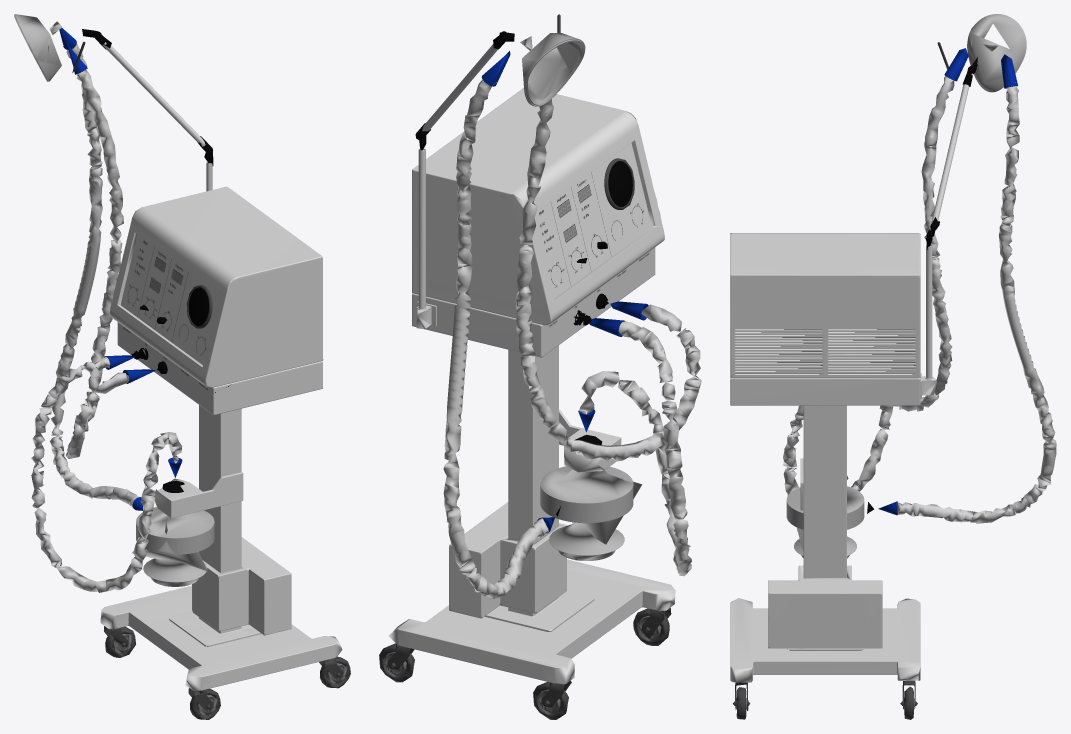
File: monitor.glb
The picture shows the model from 3 angles, left to right: view 1: azimuth 30°, elevation 25°; view 2: azimuth 150°, elevation 25°; view 3: azimuth 270°, elevation 25°; orthographic projection. The views are drawn at different scales.
Parts seen in each view (by area): view 1: cgaxis_models_55_07_02, cgaxis_models_55_07_04, cgaxis_models_55_07_05, cgaxis_models_55_07_01, cgaxis_models_55_03_07, floor_bottom, cgaxis_models_55_07_10, cgaxis_models_55_07_08; view 2: cgaxis_models_55_07_02, cgaxis_models_55_07_04, cgaxis_models_55_07_05, cgaxis_models_55_07_01, cgaxis_models_55_03_07, floor_bottom, cgaxis_models_55_07_10, cgaxis_models_55_07_08; view 3: cgaxis_models_55_07_02, cgaxis_models_55_07_04, cgaxis_models_55_07_05, floor_bottom, cgaxis_models_55_03_07, cgaxis_models_55_07_10.
Part boxes in pixels (x1,y1,x2,y2): cgaxis_models_55_07_02: (100, 42, 342, 690); cgaxis_models_55_07_04: (31, 43, 182, 592); cgaxis_models_55_07_05: (14, 14, 214, 586); cgaxis_models_55_07_01: (121, 234, 219, 364); cgaxis_models_55_03_07: (72, 41, 350, 719); floor_bottom: (82, 29, 213, 492); cgaxis_models_55_07_10: (59, 28, 182, 510); cgaxis_models_55_07_08: (112, 634, 346, 715); cgaxis_models_55_07_02: (388, 44, 675, 683); cgaxis_models_55_07_04: (443, 80, 701, 598); cgaxis_models_55_07_05: (520, 33, 642, 560); cgaxis_models_55_07_01: (534, 143, 651, 298); cgaxis_models_55_03_07: (379, 14, 671, 719); floor_bottom: (415, 31, 632, 516); cgaxis_models_55_07_10: (481, 51, 648, 533); cgaxis_models_55_07_08: (383, 615, 661, 714); cgaxis_models_55_07_02: (730, 84, 969, 682); cgaxis_models_55_07_04: (783, 76, 1056, 523); cgaxis_models_55_07_05: (786, 14, 1026, 558); floor_bottom: (761, 57, 978, 513); cgaxis_models_55_03_07: (733, 42, 948, 719); cgaxis_models_55_07_10: (878, 48, 1017, 515).
Bounding box in the file's own units: 0.5495 × 1.33 × 0.6423.
Materials: 9 (2 with a texture image).
